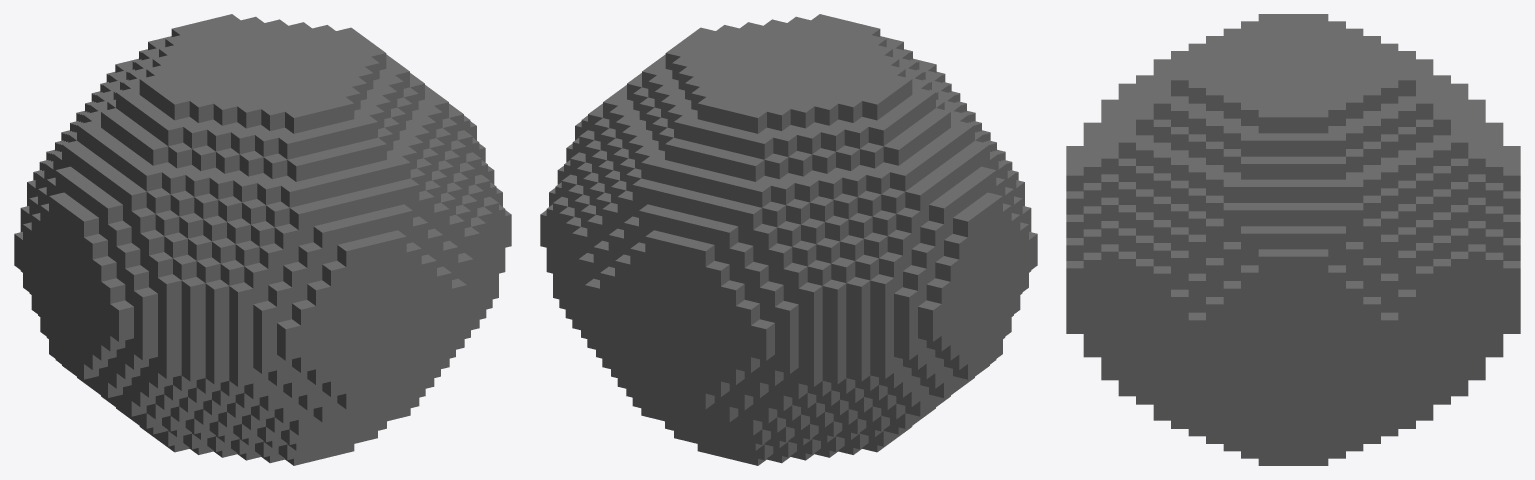
Rendered from _g_asteroid_2.obj.
3 renders of one model, left to right at view 1: azimuth 30°, elevation 25°; view 2: azimuth 150°, elevation 25°; view 3: azimuth 270°, elevation 25°, orthographic.
Size of the model in its own units: 2.6 by 2.2 by 2.6.
